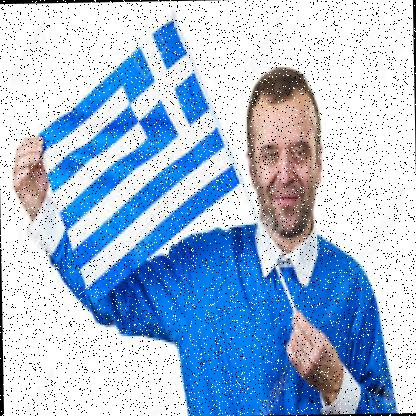gr: (39, 23, 246, 297)
